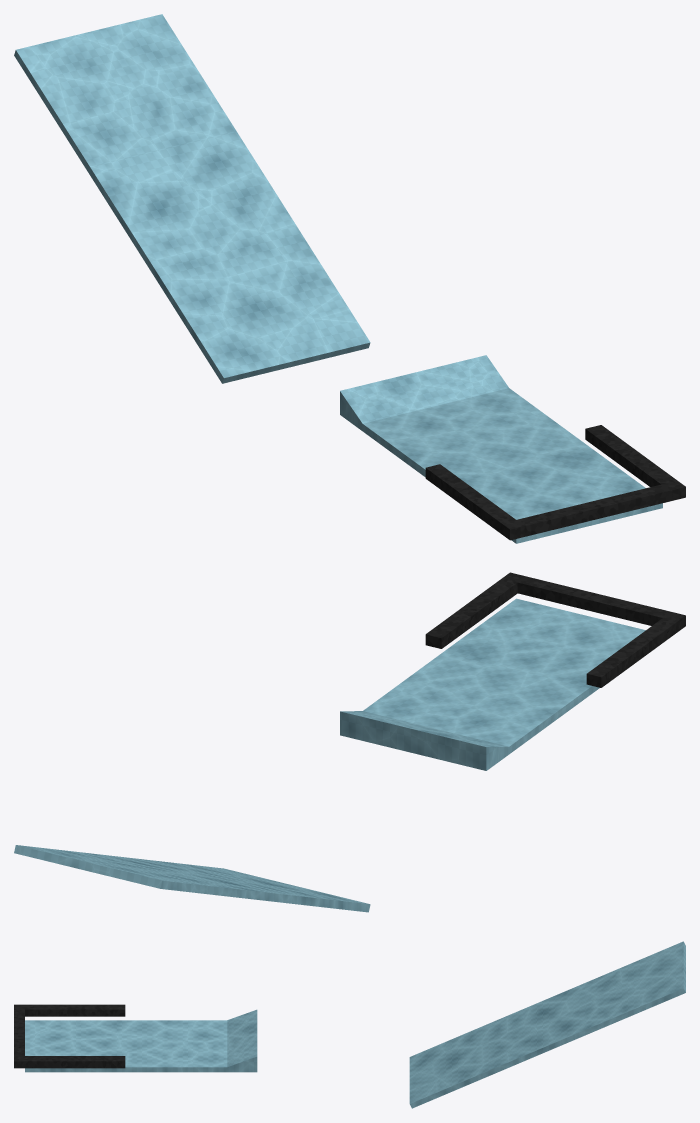
Rendered from track_5.glb.
The picture shows the model from 3 angles, top to bottom: view 1: azimuth 30°, elevation 25°; view 2: azimuth 150°, elevation 25°; view 3: azimuth 270°, elevation 25°; orthographic projection. The views are drawn at different scales.
Parts seen in each view (by area): view 1: Base Plane 2, Base Plane 1, track 5 rails; view 2: Base Plane 1, track 5 rails, Base Plane 2; view 3: Base Plane 2, Base Plane 1, track 5 rails.
Boxes of the visible parts, x1,y1,x2,y2 form: Base Plane 2: [14, 14, 370, 383]; Base Plane 1: [340, 355, 662, 543]; track 5 rails: [425, 425, 685, 540]; Base Plane 1: [340, 598, 645, 770]; track 5 rails: [425, 572, 685, 687]; Base Plane 2: [14, 845, 370, 912]; Base Plane 2: [409, 941, 685, 1108]; Base Plane 1: [25, 1009, 257, 1072]; track 5 rails: [14, 1004, 125, 1068].
Bounding box in the file's own units: 12 × 11.93 × 60.37.
3 materials, 3 textured.
